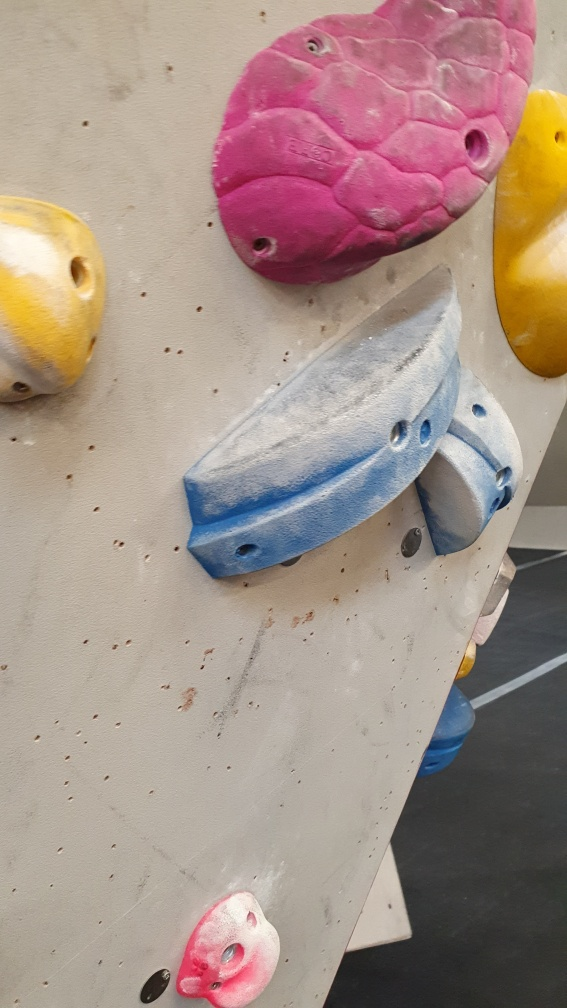Hand Start: (397, 522, 428, 568)
Pinch: (176, 258, 463, 580), (419, 358, 525, 558)
